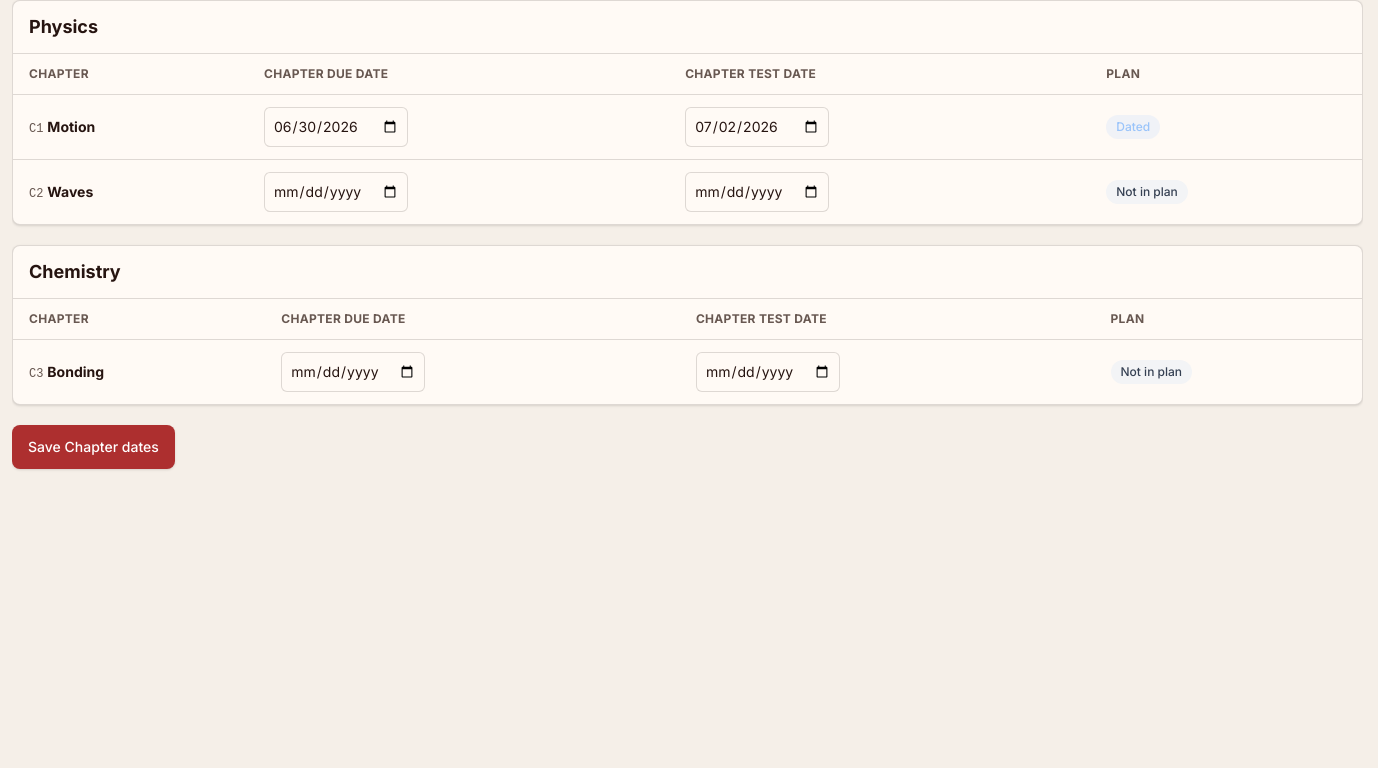
Test: CurriculumPlanChapterDates › shows a form-level error
This screenshot has width=1378, height=768.
Type "2026-09-01" into the date field named "Due date for Bonding" at (353, 372), box [281,352,425,392]
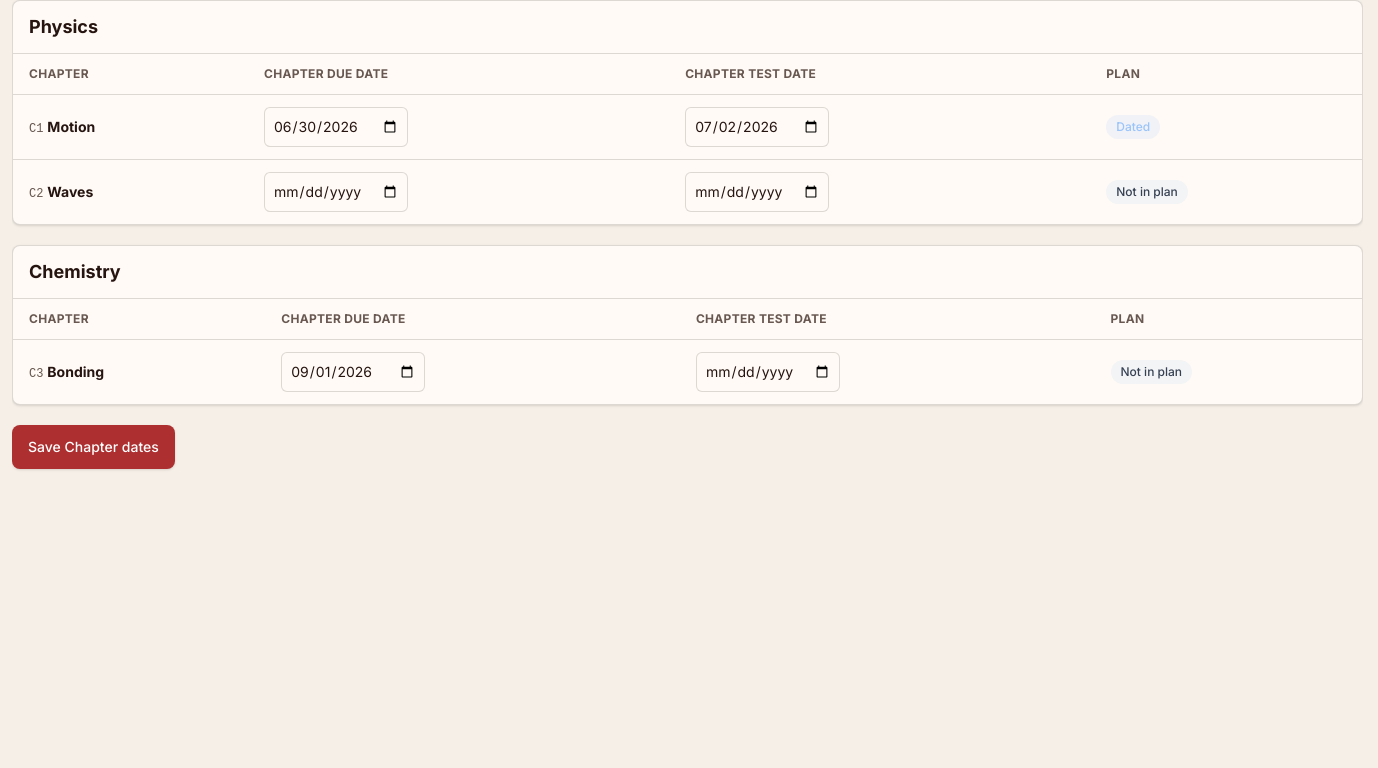
Click the button "Save Chapter dates" at (93, 447), box [12,425,175,469]
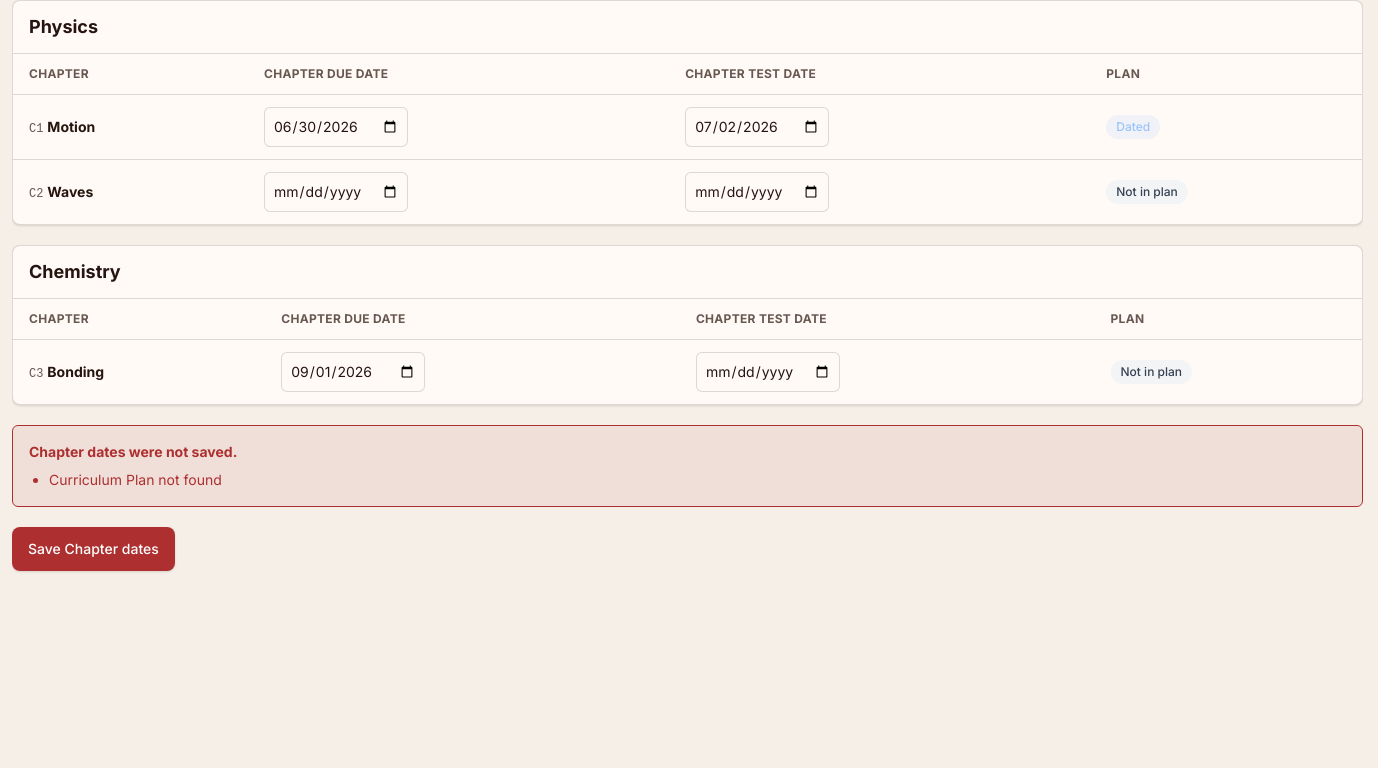
expect the message with test id "plan-date-errors" shows "Curriculum Plan not found": met, box [49,471,222,488]
